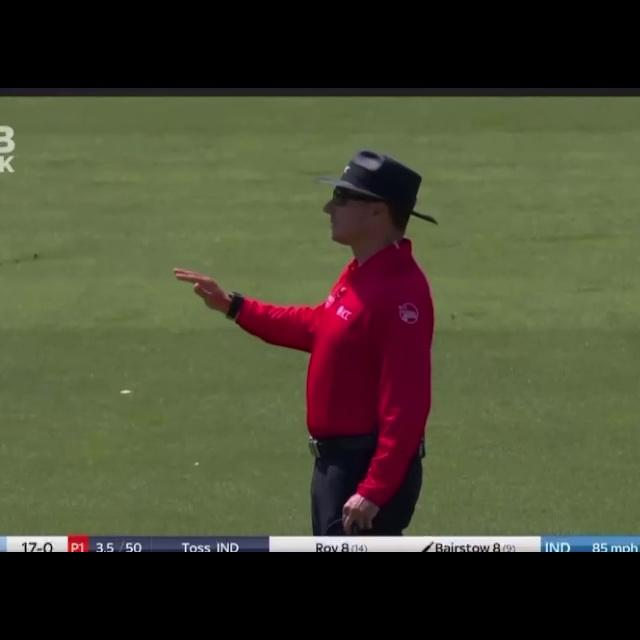umpire: (160, 118, 454, 538)
